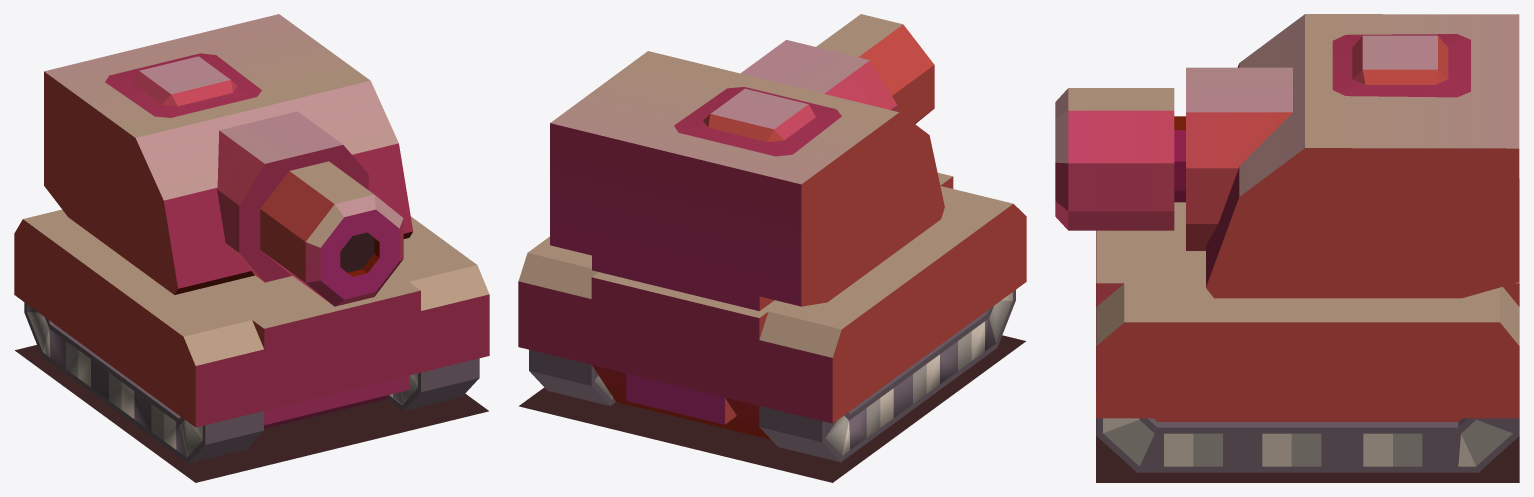
The model's file is TankMesh.RedFire.glb.
The picture shows the model from 3 angles, left to right: view 1: azimuth 30°, elevation 25°; view 2: azimuth 150°, elevation 25°; view 3: azimuth 270°, elevation 25°; orthographic projection. The views are drawn at different scales.
Visible parts, largest first — view 1: TankMesh.RedFire; view 2: TankMesh.RedFire; view 3: TankMesh.RedFire.
Part boxes in pixels (left/top/right/bottom): TankMesh.RedFire: left=14, top=14, right=489, bottom=482; TankMesh.RedFire: left=518, top=14, right=1026, bottom=482; TankMesh.RedFire: left=1055, top=14, right=1519, bottom=482.
Bounding box in the file's own units: 1.5 × 1.38 × 1.76.
Materials: 1 (1 with a texture image).
